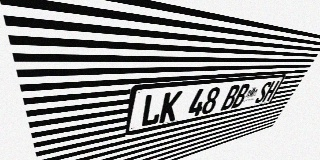4: (186, 88, 209, 118)
8: (200, 87, 222, 115)
B: (220, 85, 241, 111), (231, 84, 251, 109)
H: (261, 80, 280, 102)
K: (158, 91, 183, 124)
L: (140, 93, 165, 128)
S: (254, 81, 273, 104)
